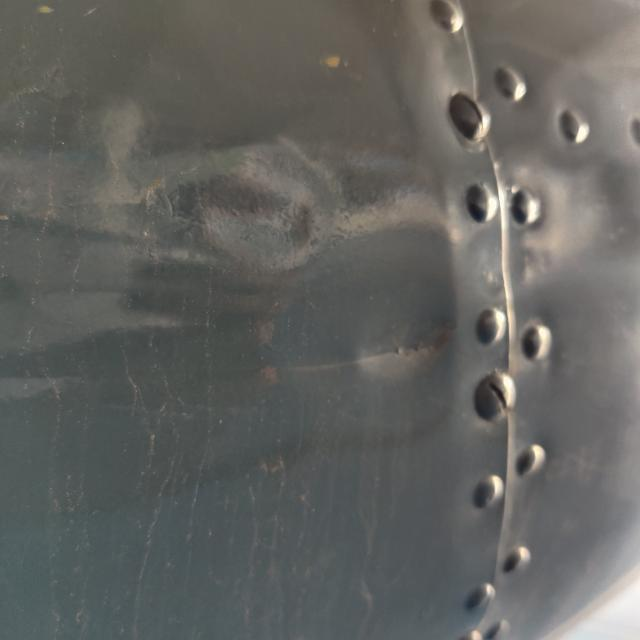dent: (148, 156, 327, 301), (344, 301, 466, 399)
